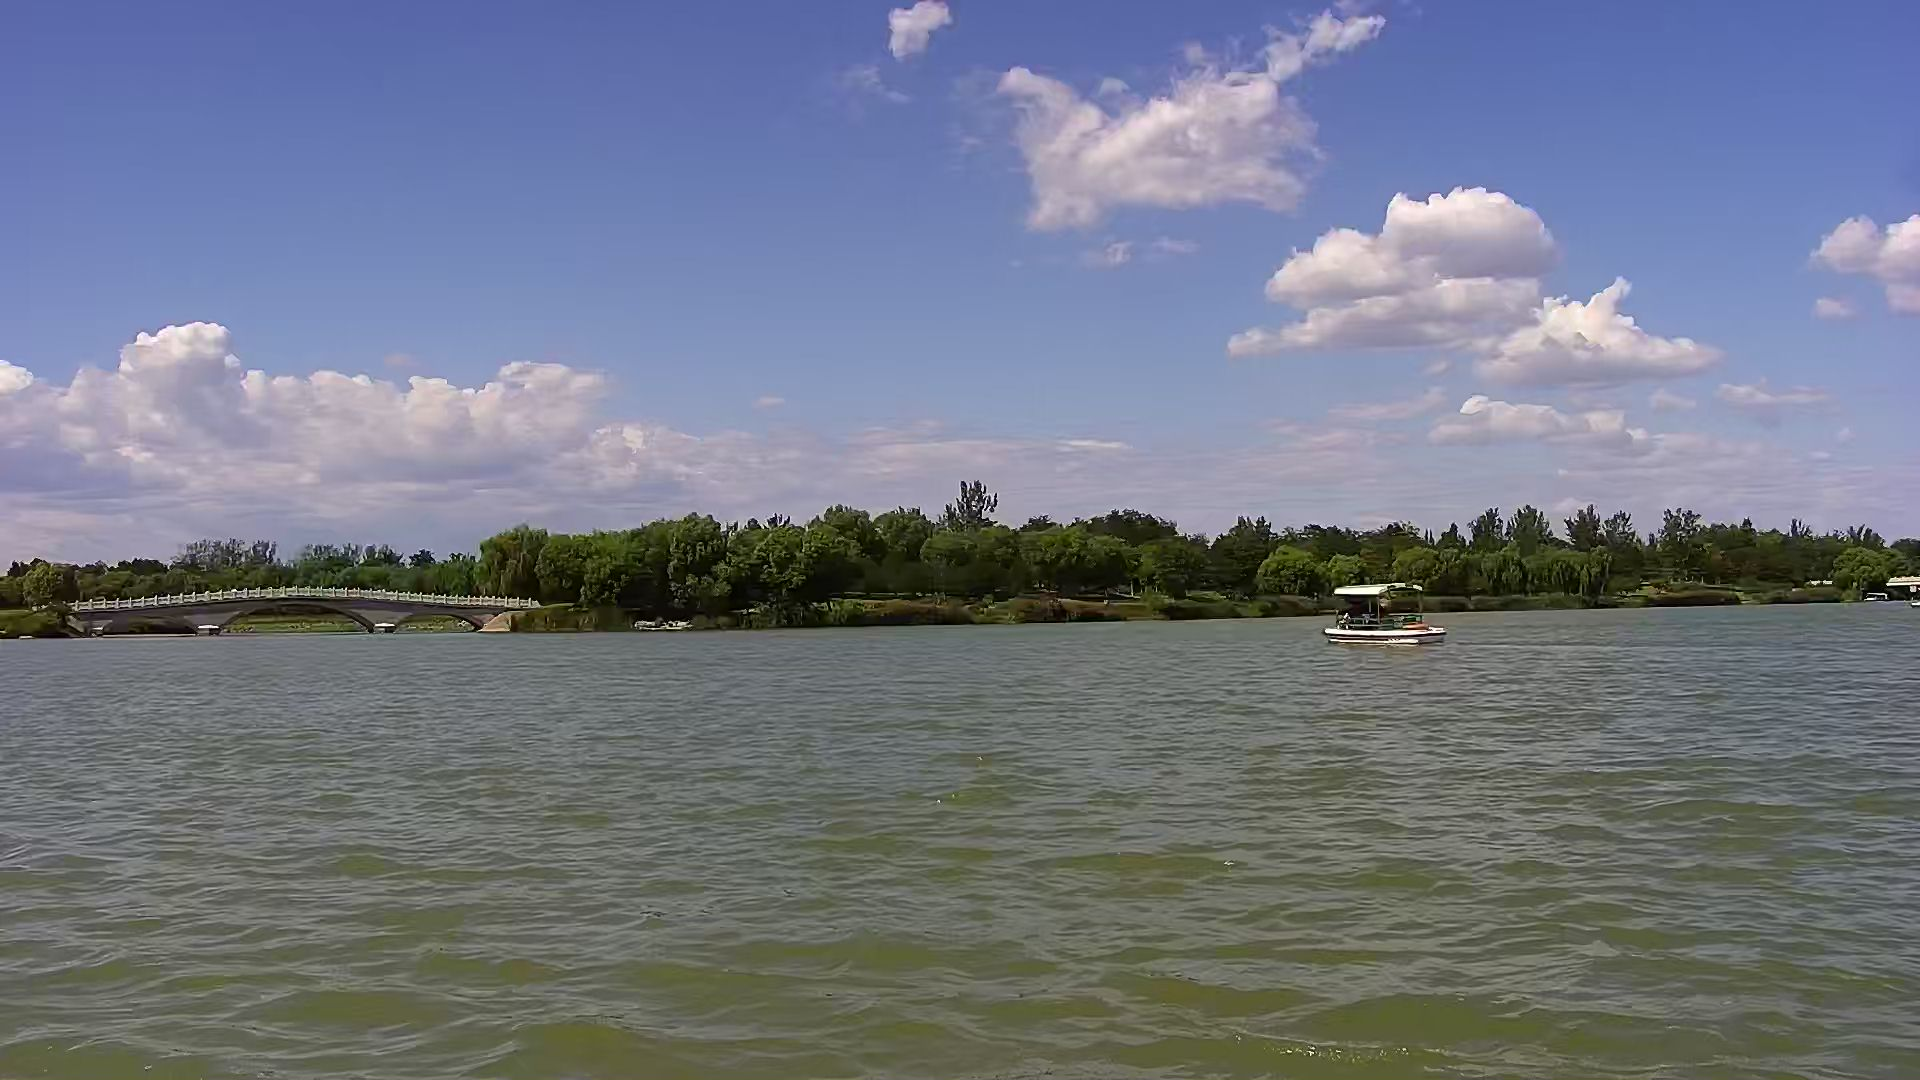boat: (1317, 579, 1447, 650)
bridge: (61, 583, 508, 642), (1882, 578, 1920, 597)
